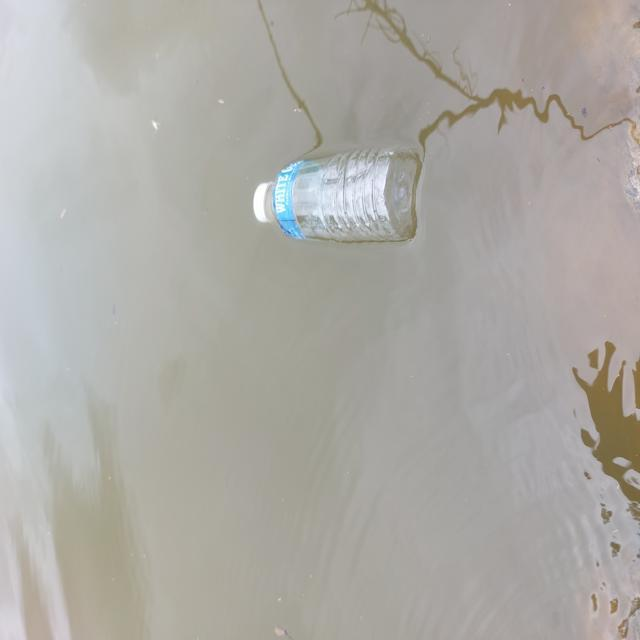waterbottle: (232, 124, 429, 262)
